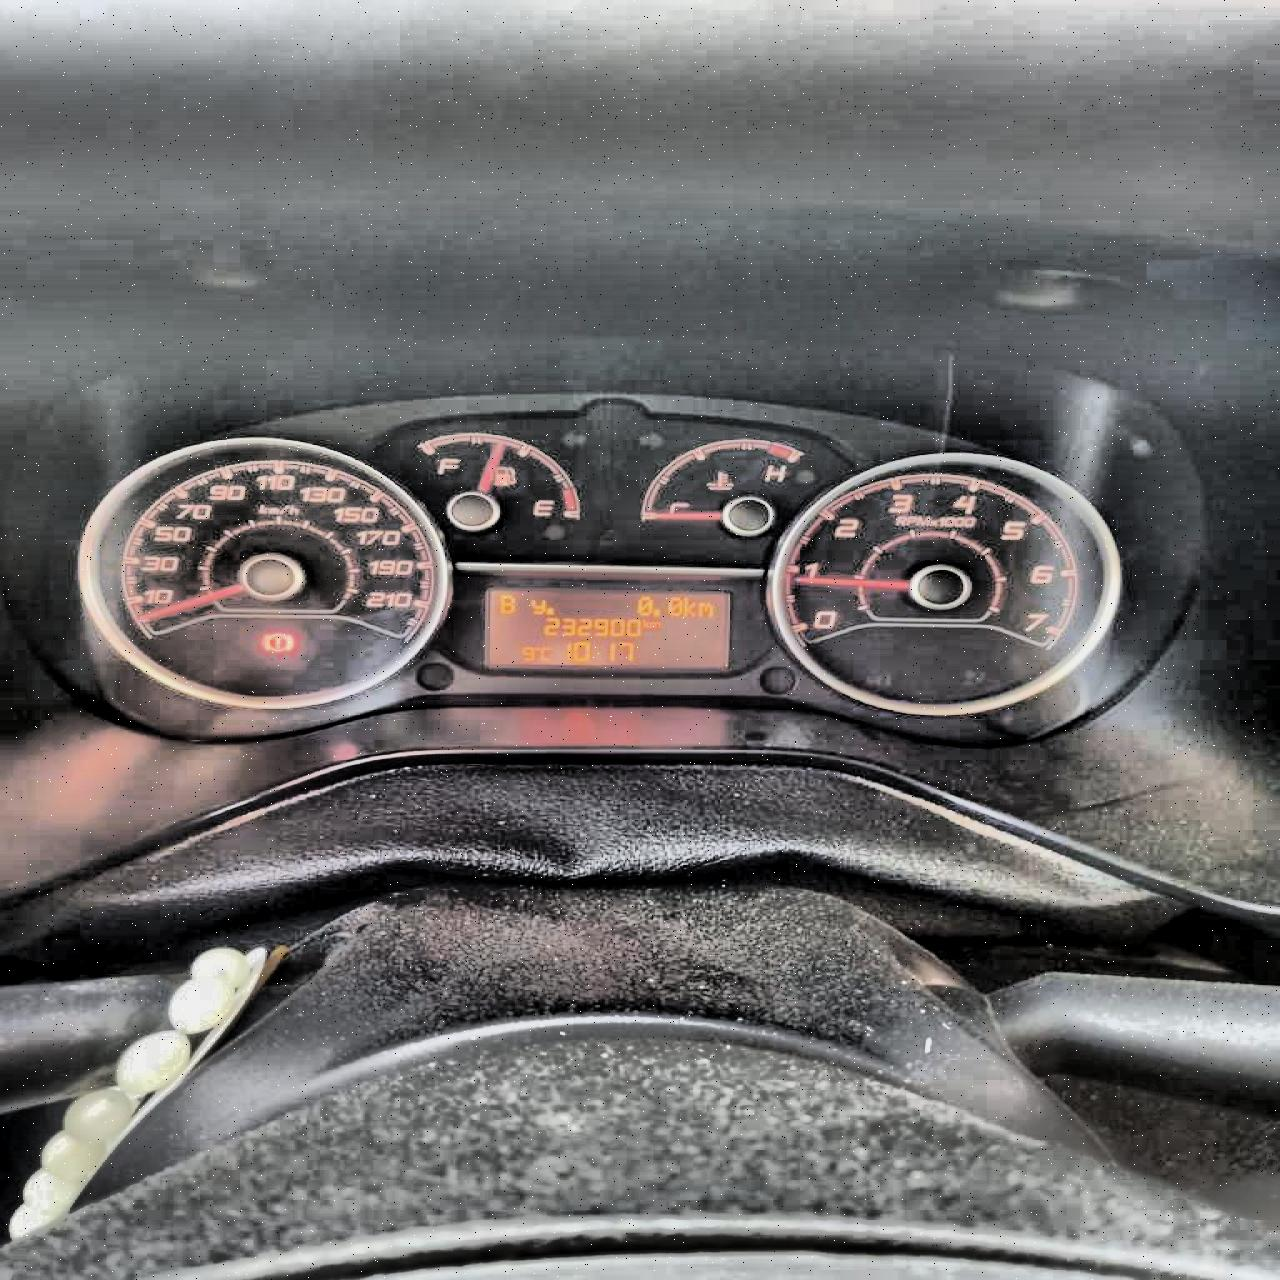-: (545, 605, 553, 614), (652, 606, 659, 615)
0: (635, 594, 652, 615), (666, 595, 682, 617), (572, 640, 588, 660), (624, 618, 640, 636), (608, 618, 624, 636)
1: (561, 641, 572, 660), (607, 640, 615, 661)
2: (542, 617, 558, 636), (576, 617, 590, 635)
3: (558, 617, 573, 635)
7: (617, 640, 633, 660)
9: (592, 617, 606, 635), (518, 645, 533, 661)
X: (497, 591, 516, 614), (695, 600, 713, 618), (682, 595, 695, 617), (529, 598, 545, 613), (538, 645, 550, 660), (647, 620, 661, 628), (640, 618, 647, 627)
odometer: (474, 583, 742, 675)
